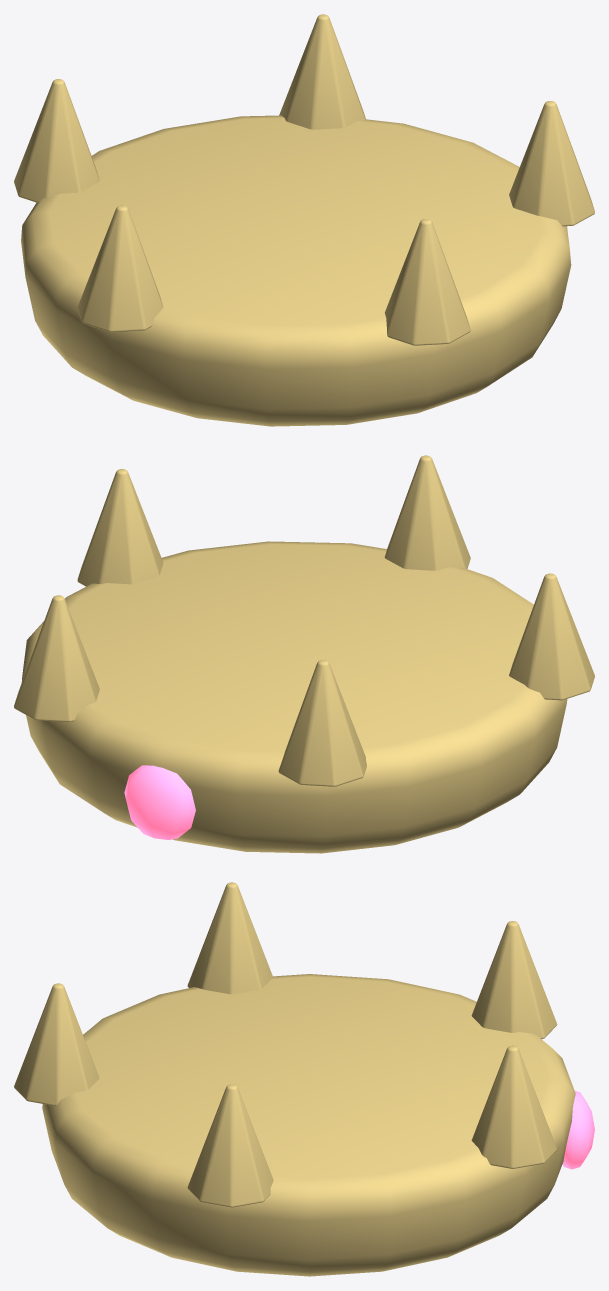
Rendered from Acc_Crown.fbx.
3 renders of one model, top to bottom at view 1: azimuth 30°, elevation 25°; view 2: azimuth 150°, elevation 25°; view 3: azimuth 270°, elevation 25°, orthographic. The views are drawn at different scales.
Visible parts, largest first — view 1: Crown, Crown_Point, Crown_Point.001, Crown_Point.004, Crown_Point.002, Crown_Point.003; view 2: Crown, Crown_Point.002, Crown_Point.003, Crown_Point.001, Crown_Point.004, Crown_Point, Crown_Gem; view 3: Crown, Crown_Point.004, Crown_Point.003, Crown_Point, Crown_Point.002, Crown_Point.001, Crown_Gem.
Part boxes in pixels (box(x1,y1,x2,y2)): Crown: box(21, 115, 571, 426); Crown_Point: box(385, 219, 470, 345); Crown_Point.001: box(77, 205, 163, 332); Crown_Point.004: box(509, 101, 594, 226); Crown_Point.002: box(14, 79, 99, 202); Crown_Point.003: box(279, 14, 365, 129); Crown: box(21, 541, 567, 853); Crown_Point.002: box(278, 660, 366, 786); Crown_Point.003: box(14, 595, 99, 722); Crown_Point.001: box(509, 573, 594, 700); Crown_Point.004: box(77, 469, 163, 586); Crown_Point: box(384, 455, 470, 570); Crown_Gem: box(124, 765, 195, 839); Crown: box(42, 974, 575, 1276); Crown_Point.004: box(187, 1084, 273, 1207); Crown_Point.003: box(471, 1045, 557, 1168); Crown_Point: box(14, 983, 99, 1105); Crown_Point.002: box(471, 921, 557, 1039); Crown_Point.001: box(187, 882, 273, 994); Crown_Gem: box(562, 1091, 594, 1169).
Bounding box in the file's own units: 49.63 × 19 × 50.89.
